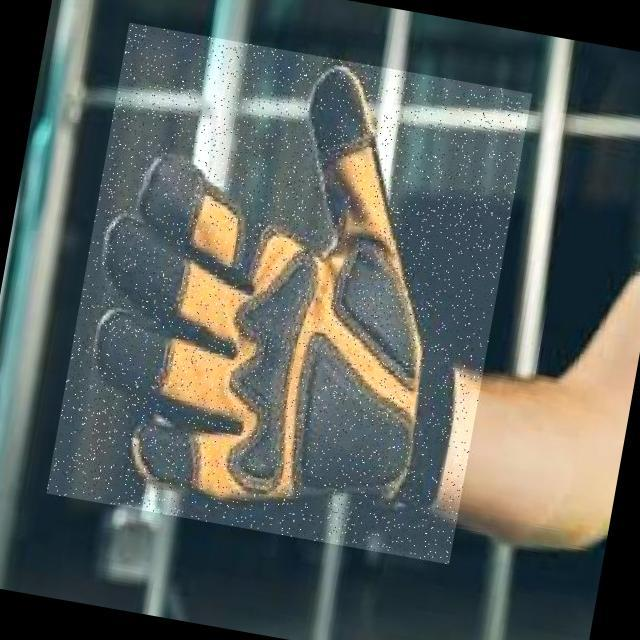Gloves: (46, 22, 532, 564)
